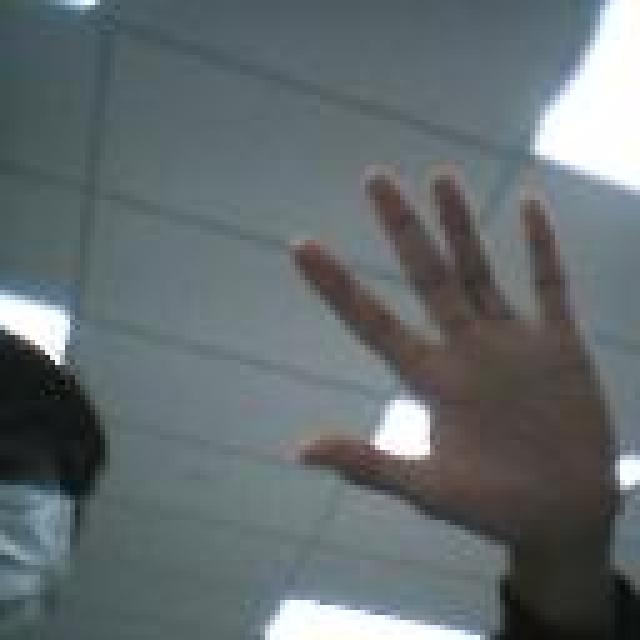hand: (283, 160, 623, 540)
